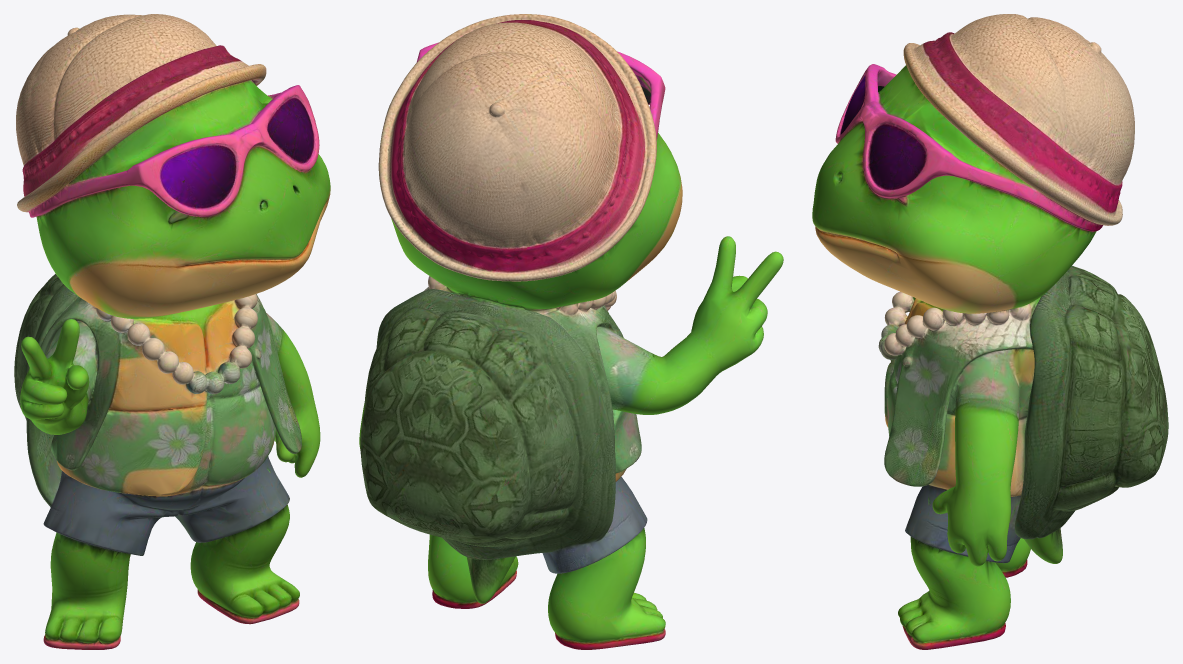
The model's file is Turtle standing.glb.
The picture shows the model from 3 angles, left to right: view 1: azimuth 30°, elevation 25°; view 2: azimuth 150°, elevation 25°; view 3: azimuth 270°, elevation 25°; orthographic projection. The views are drawn at different scales.
Size of the model in its own units: 1.2 by 1.9 by 1.07.
Materials: 1 (1 with a texture image).
